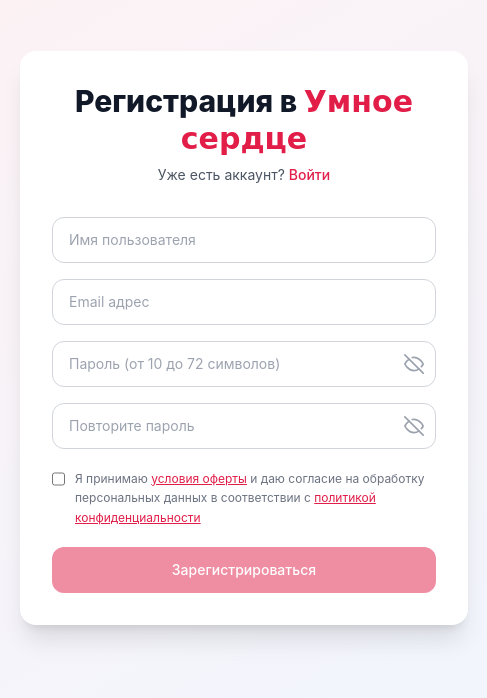
Test case: Register › shows a validation error when passwords do not match
Type "anna" into the field with placeholder "Имя пользователя" at [244, 240], box left=52, top=217, right=436, bottom=263
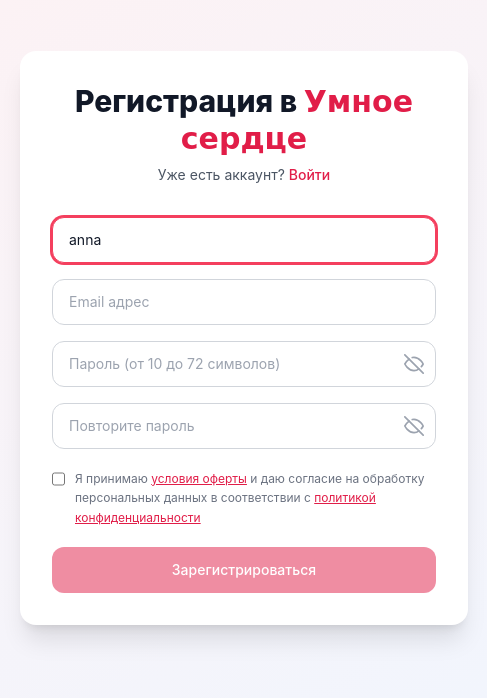
Type "anna@example.com" into the field with placeholder "Email адрес" at [244, 302], box left=52, top=279, right=436, bottom=325
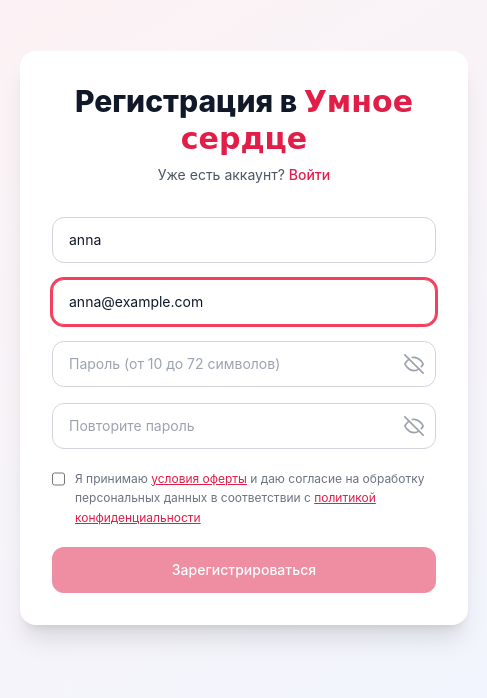
Type "Password123!" into the password field with placeholder "Пароль (от 10 до 72 символов)" at [244, 364], box left=52, top=341, right=436, bottom=387
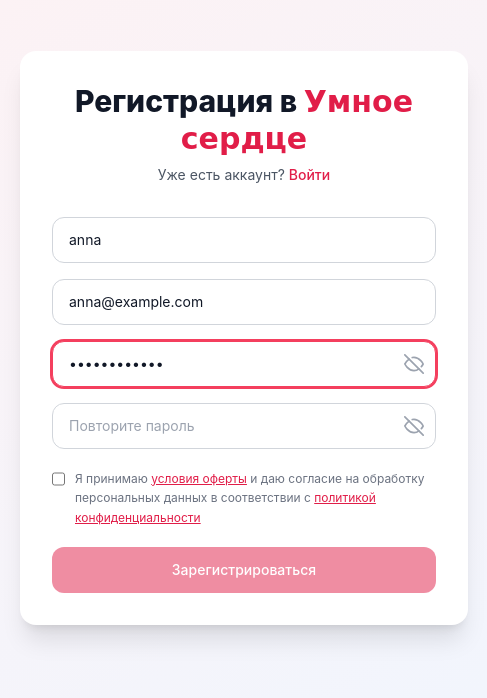
Type "AnotherPass123!" into the password field with placeholder "Повторите пароль" at [244, 426], box left=52, top=403, right=436, bottom=449
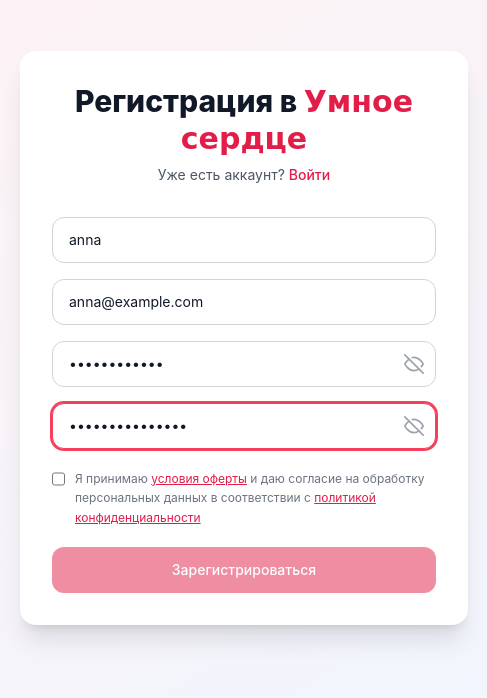
Click the checkbox at [58, 479], box left=52, top=471, right=65, bottom=487
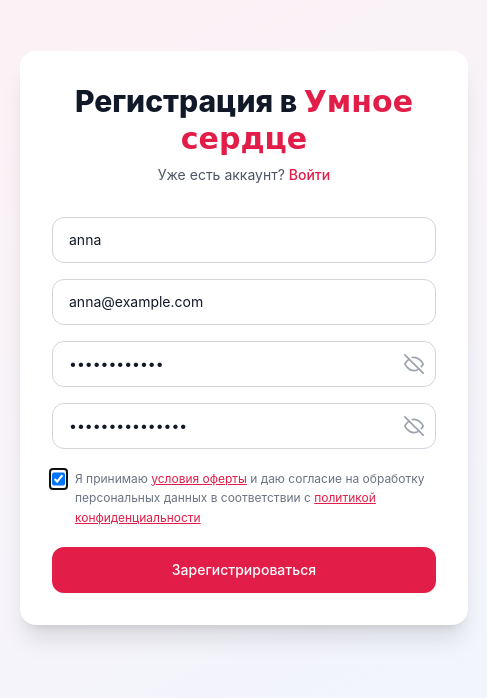
Click the button "Зарегистрироваться" at [244, 570], box left=52, top=547, right=436, bottom=593
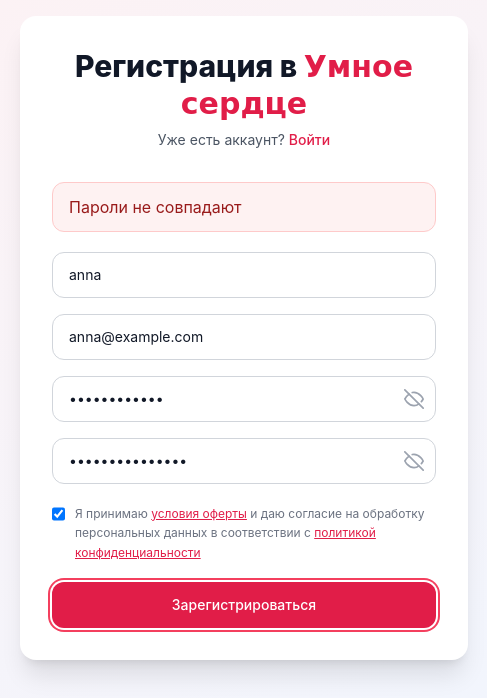
Check: the text "Пароли не совпадают" is shown, box left=52, top=182, right=436, bottom=232
